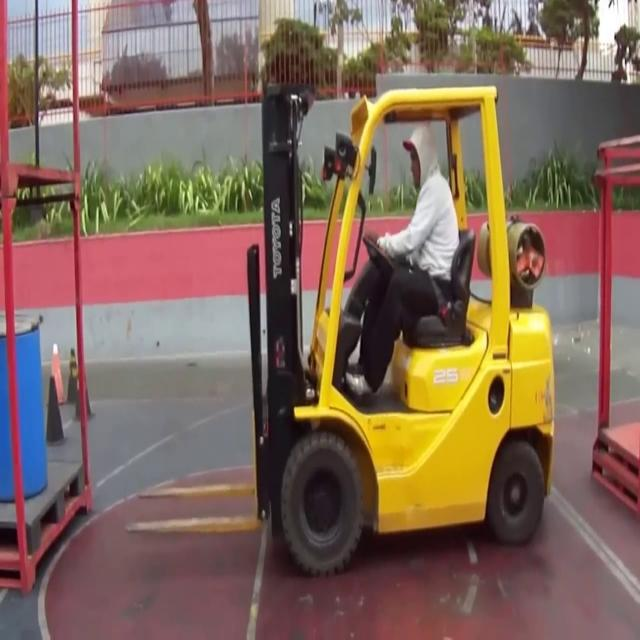Chariot elevateur: (246, 70, 564, 589)
